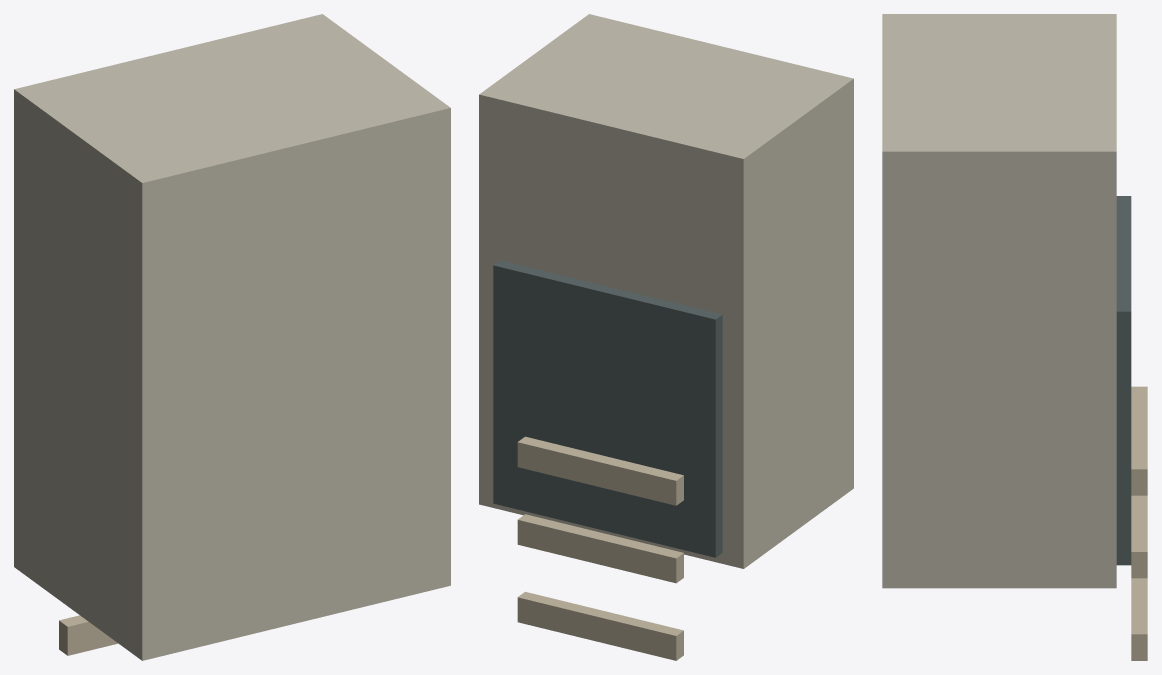
File: medicine_cabinet.glb
3 views of the same model, side by side, from view 1: azimuth 30°, elevation 25°; view 2: azimuth 150°, elevation 25°; view 3: azimuth 270°, elevation 25° (orthographic). The views are drawn at different scales.
Parts seen in each view (by area): view 1: medicine_cabinet; view 2: medicine_cabinet; view 3: medicine_cabinet.
Boxes of the visible parts, x1,y1,x2,y2 form: medicine_cabinet: [14, 14, 450, 660]; medicine_cabinet: [479, 14, 853, 660]; medicine_cabinet: [882, 14, 1147, 660].
Bounding box in the file's own units: 0.5 × 0.91 × 0.4075.
